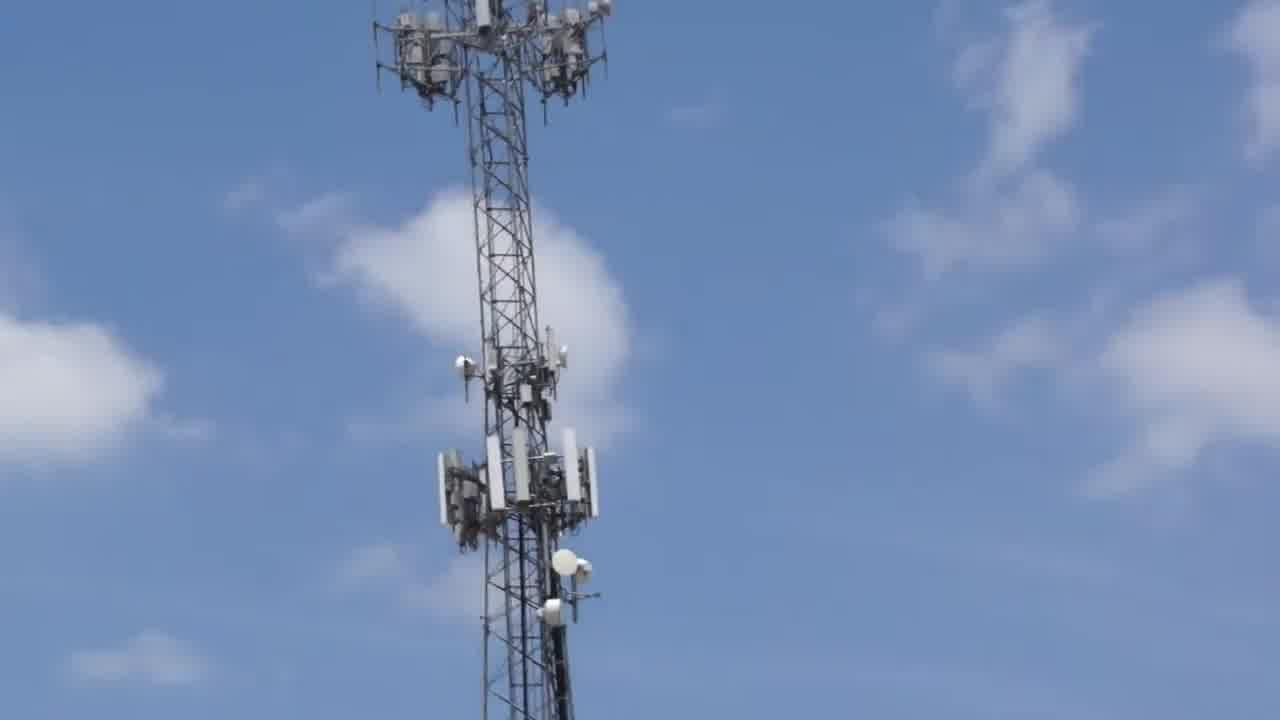Microwave Antenna: (451, 345, 483, 392), (551, 545, 581, 584), (541, 597, 570, 632), (555, 341, 577, 378), (574, 555, 593, 584)
antenna: (432, 447, 457, 536), (482, 431, 507, 516), (510, 424, 534, 512), (560, 424, 583, 511), (581, 447, 598, 526), (542, 325, 560, 376)
